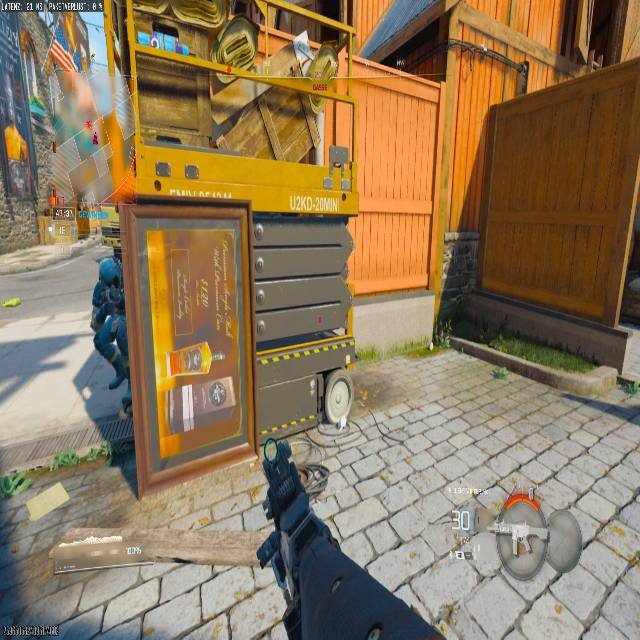head: (495, 501, 550, 577), (97, 255, 120, 283)
player: (89, 243, 128, 391)
